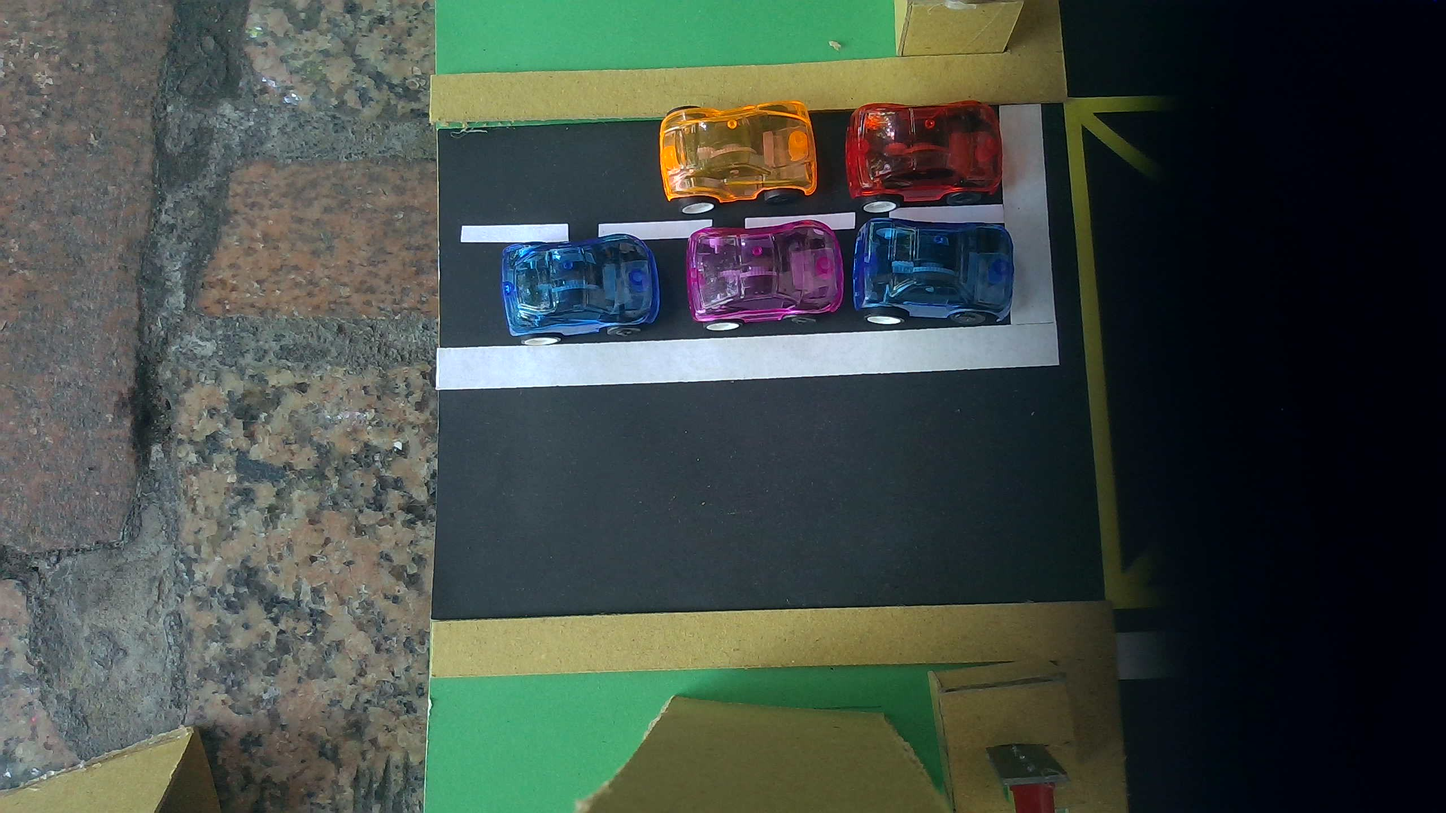Mobil biru: (501, 234, 659, 346)
Mobil merah: (845, 100, 1004, 215), (855, 215, 1013, 326)
Mobil orange: (659, 101, 817, 213)
Mobil ungu: (686, 220, 844, 330)
